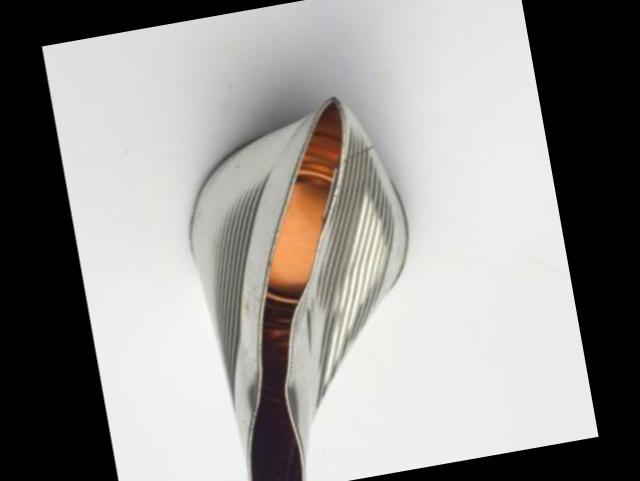metal: (188, 99, 404, 481)
